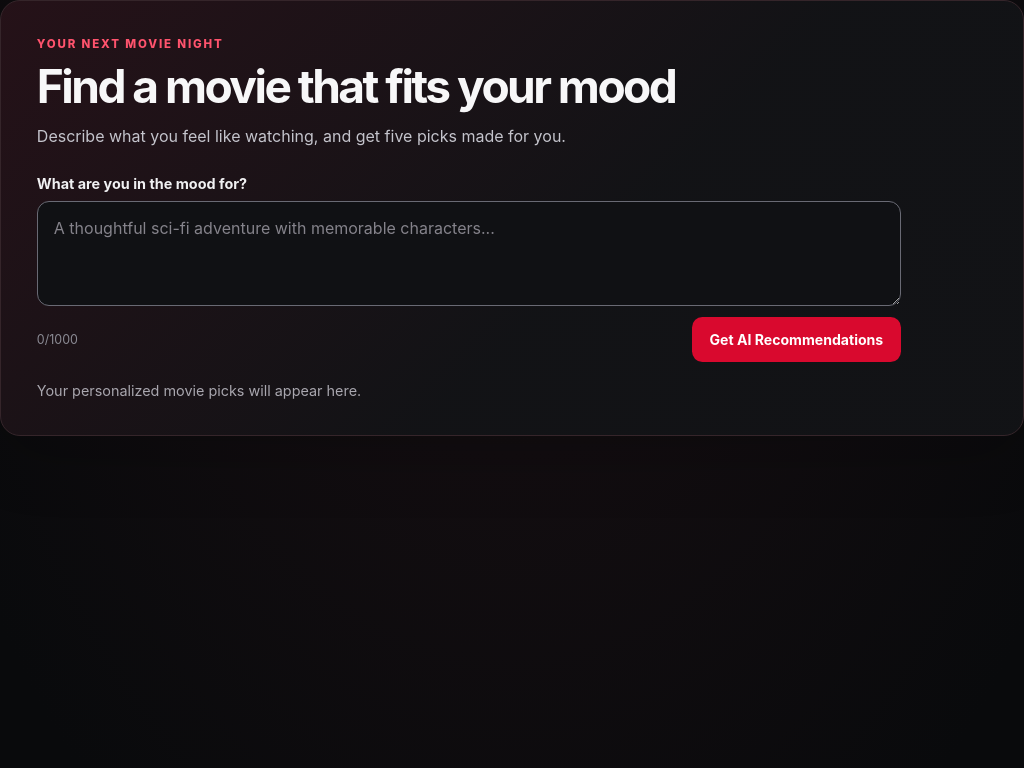
Test case: AIRecommendationSection › shows the empty state when the API returns no recommendations
In the text box labelled "What are you in the mood for?": (469, 254) x1=37 y1=201 x2=901 y2=306, type "anything unexpected"
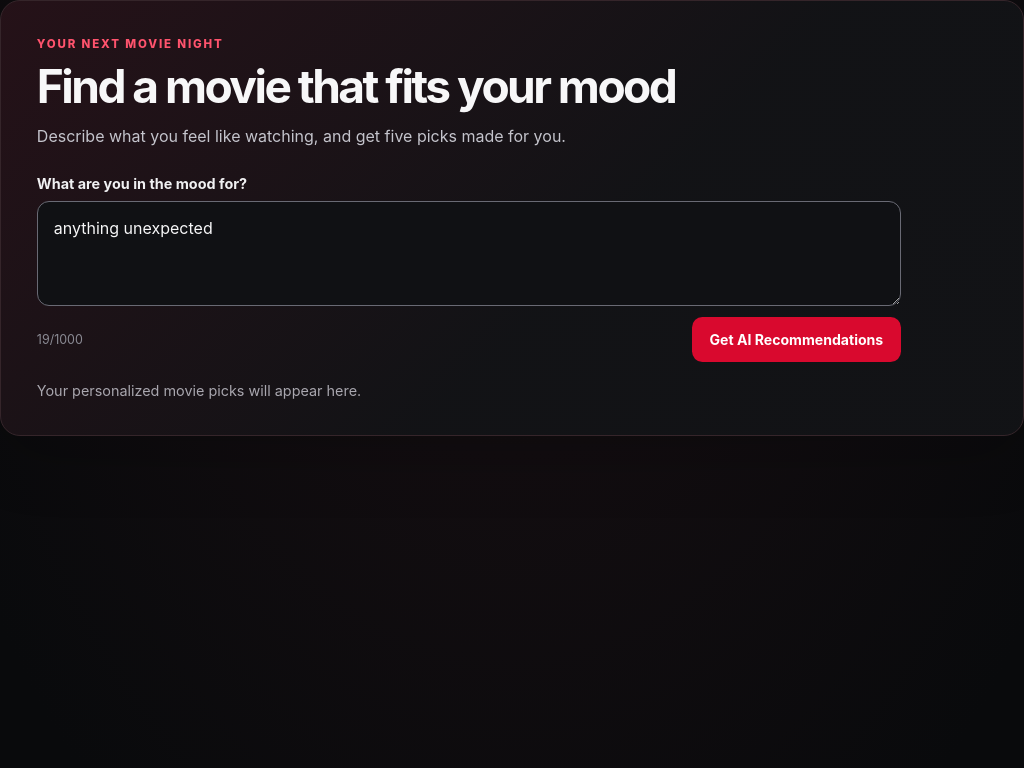
Click the button "Get AI Recommendations": (796, 339) x1=692 y1=316 x2=901 y2=362
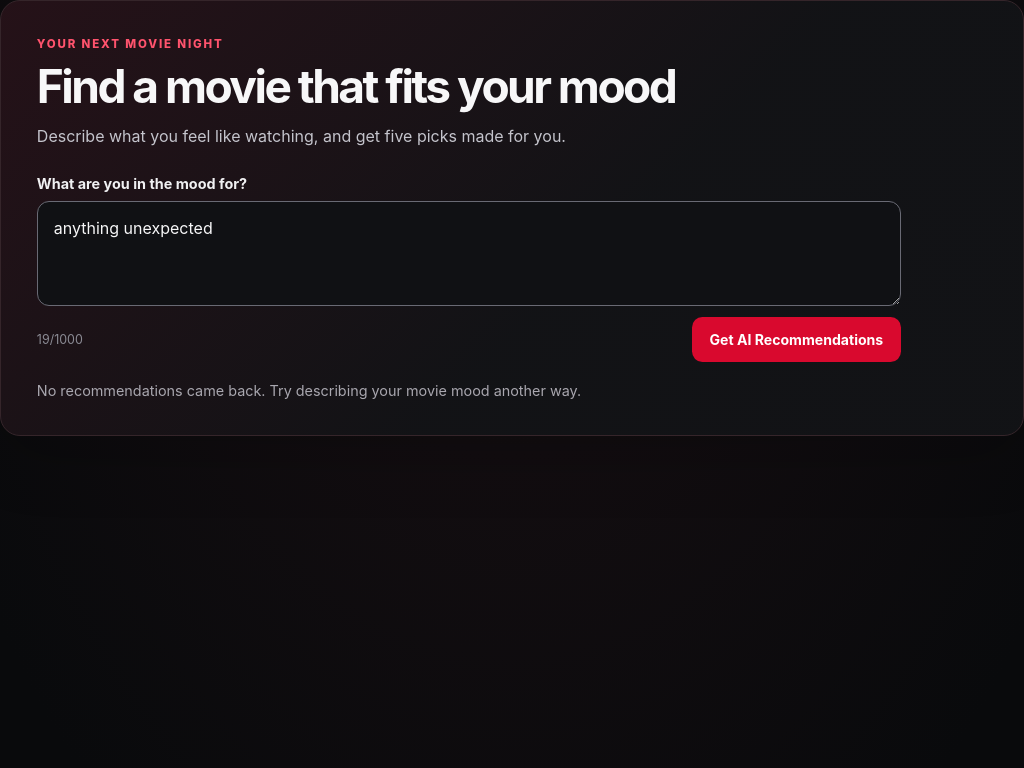
Expected: the text "No recommendations came back. Try describing your movie mood another way." is shown, x1=37 y1=382 x2=581 y2=399
